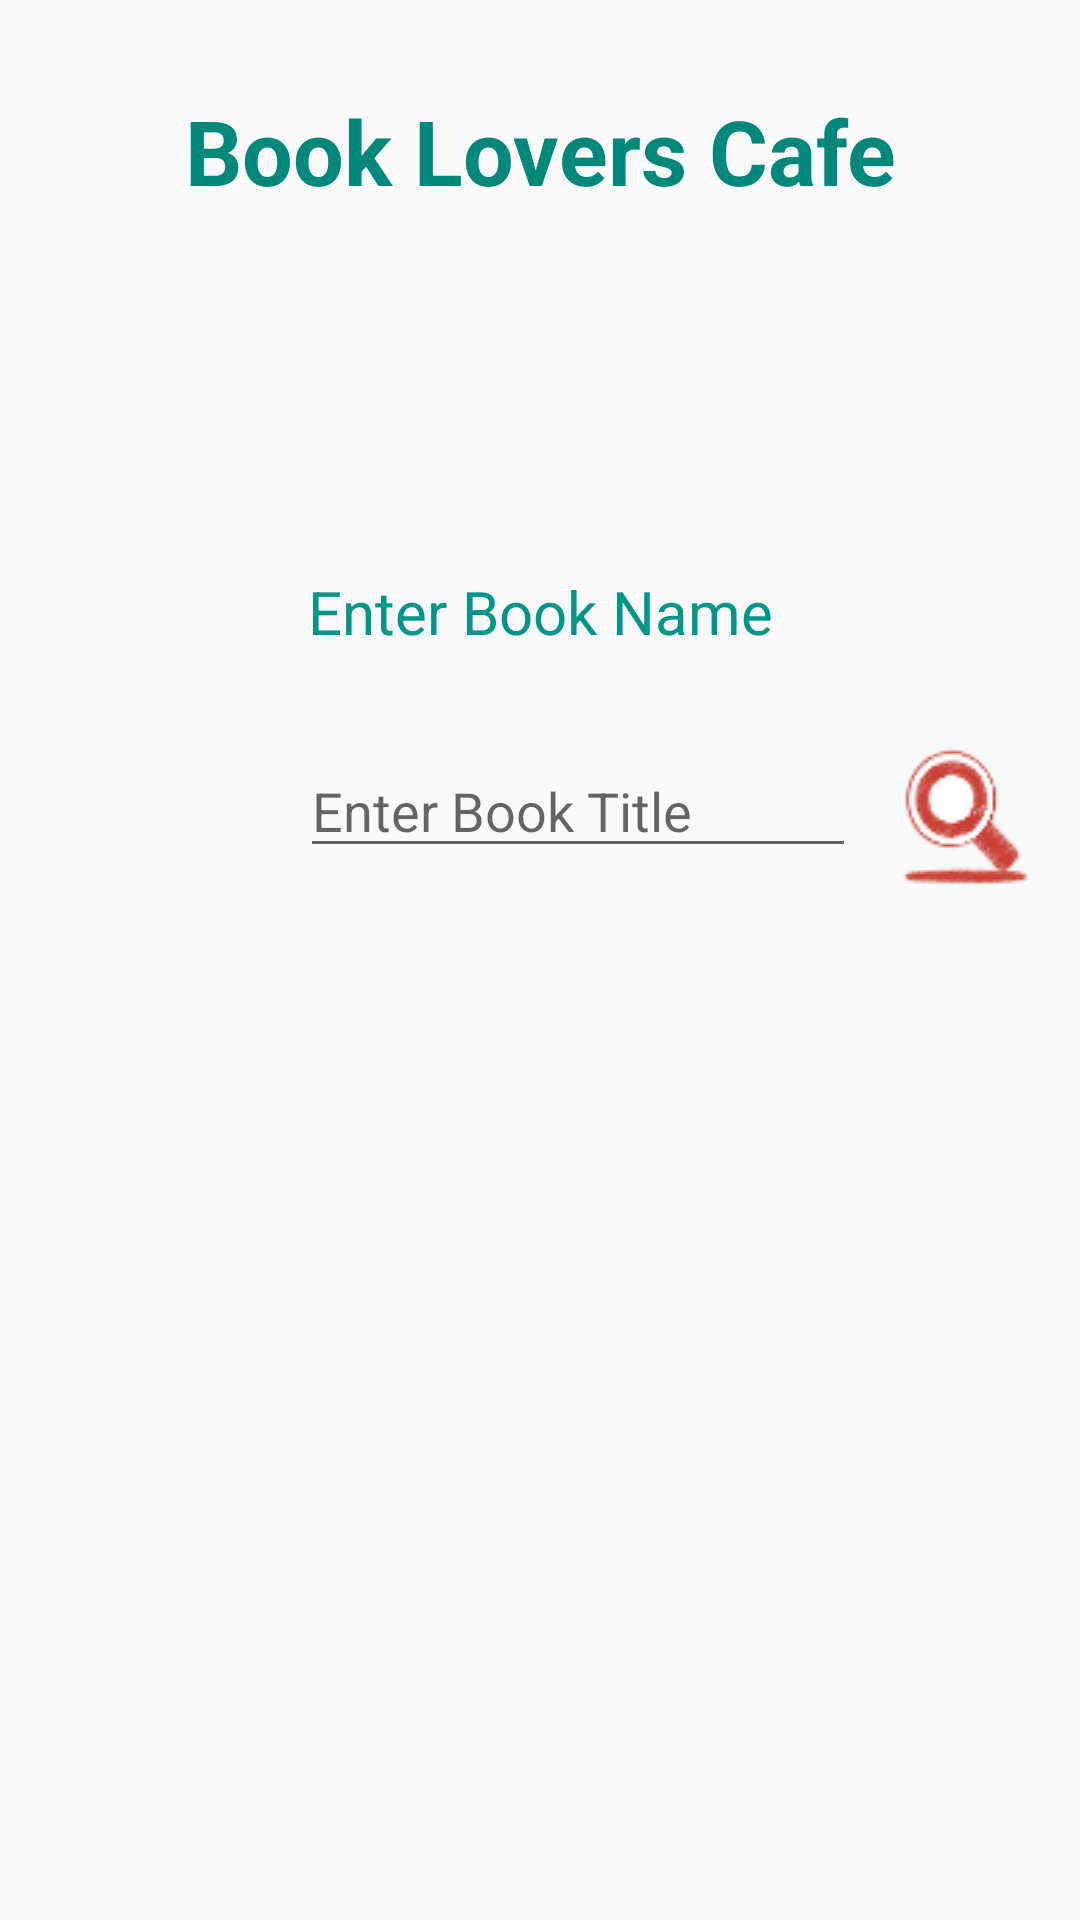

Point at icon controls on the screen. Image size 1080 x 1920, points as point (x, y).
search: point (965, 817)
